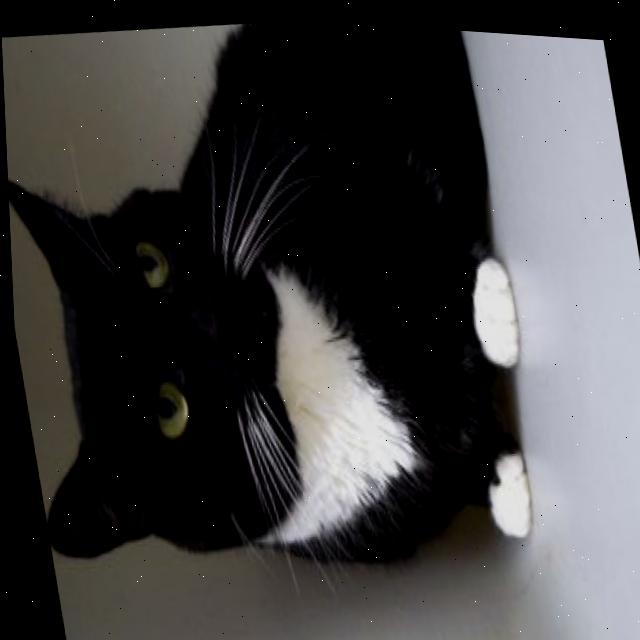Tuxedo: (0, 0, 556, 613)
